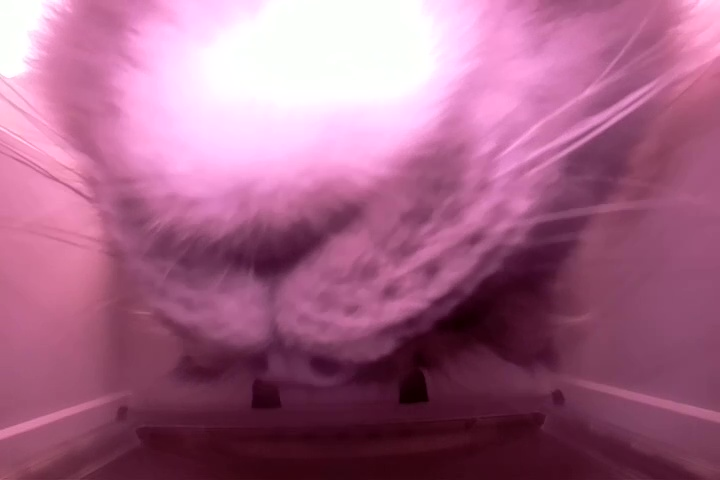Snout: (94, 120, 492, 403)
